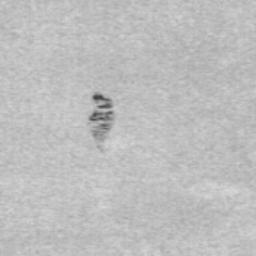Secondary rust skin: (88, 92, 114, 131)
